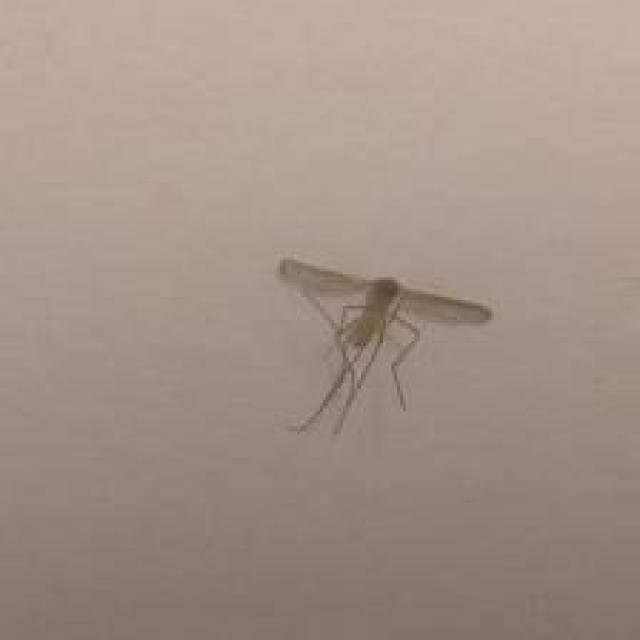Culex: (276, 255, 493, 436)
